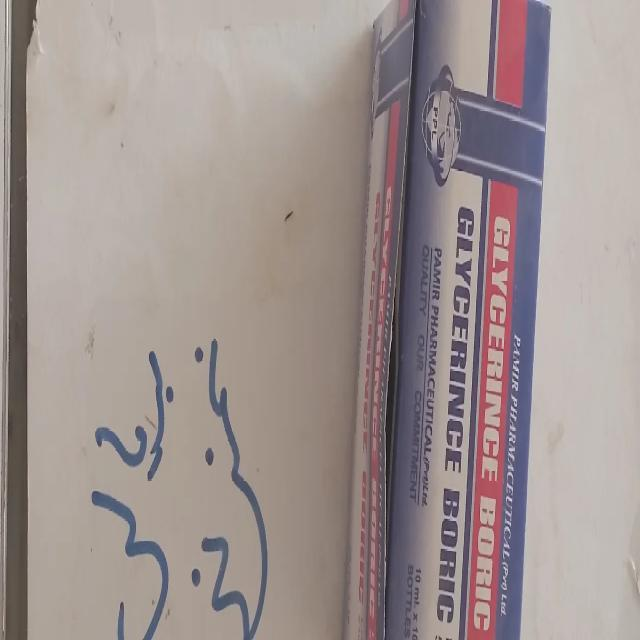drug-name: (470, 202, 515, 639)
